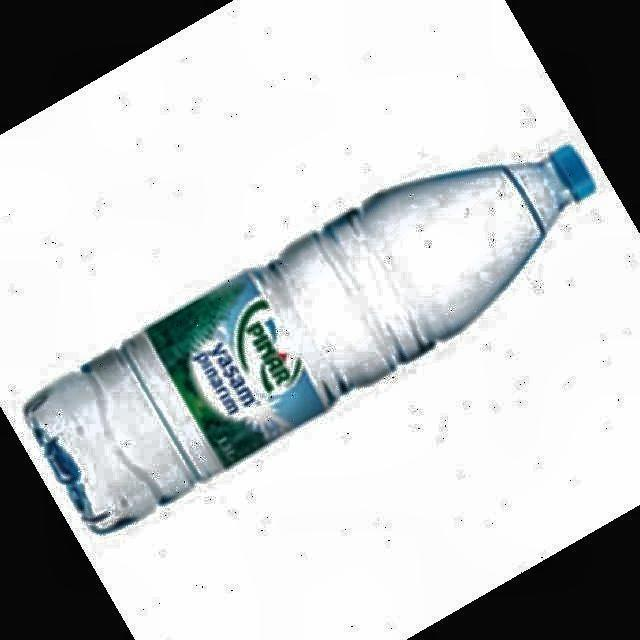plastic: (25, 145, 594, 532)
